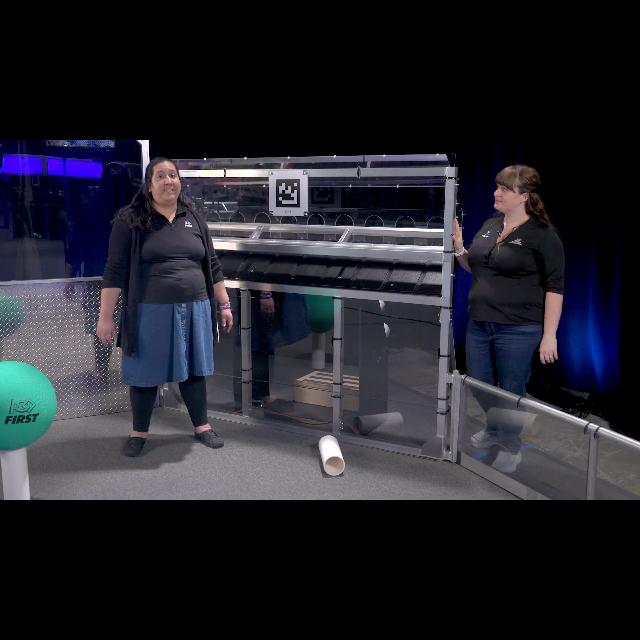ALGAE: (0, 362, 56, 451)
CORAL: (1, 446, 32, 499), (319, 436, 345, 476)
